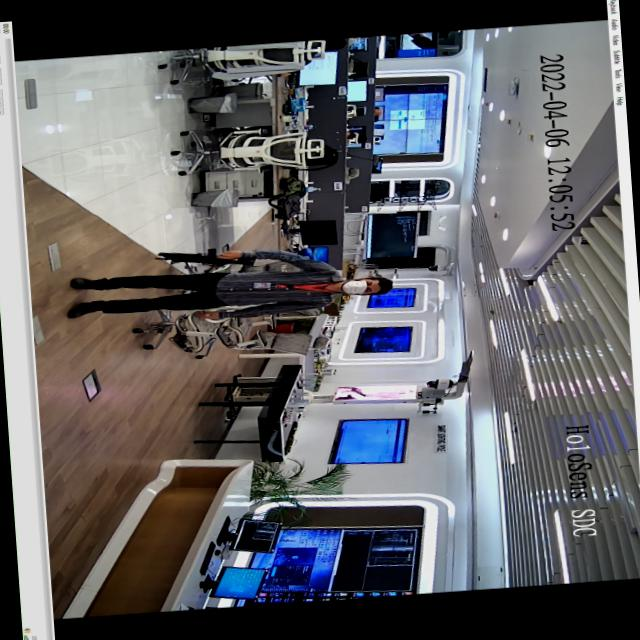long weapon: (146, 240, 266, 282)
